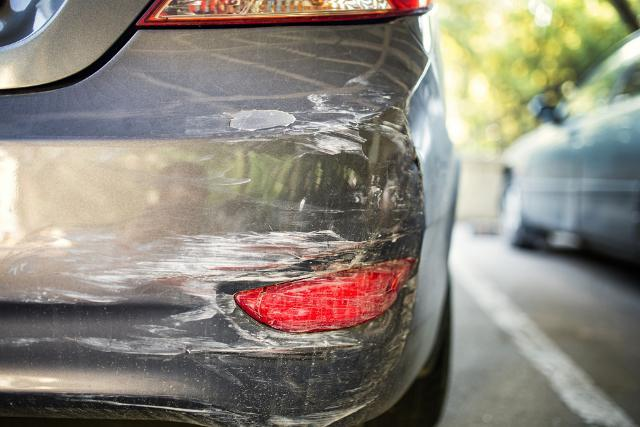Bumper: (36, 30, 448, 425)
